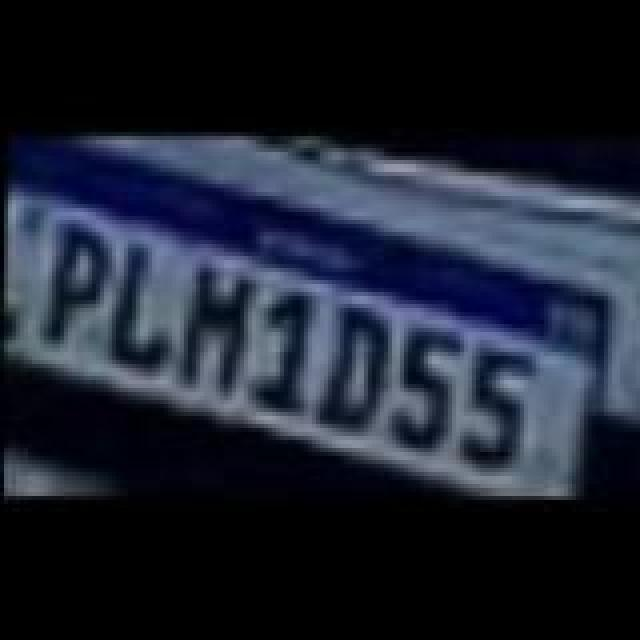1: (248, 278, 320, 414)
5: (454, 342, 534, 474), (388, 324, 460, 460)
D: (308, 296, 396, 436)
L: (98, 238, 178, 370)
M: (170, 260, 258, 400)
P: (36, 224, 112, 352)
